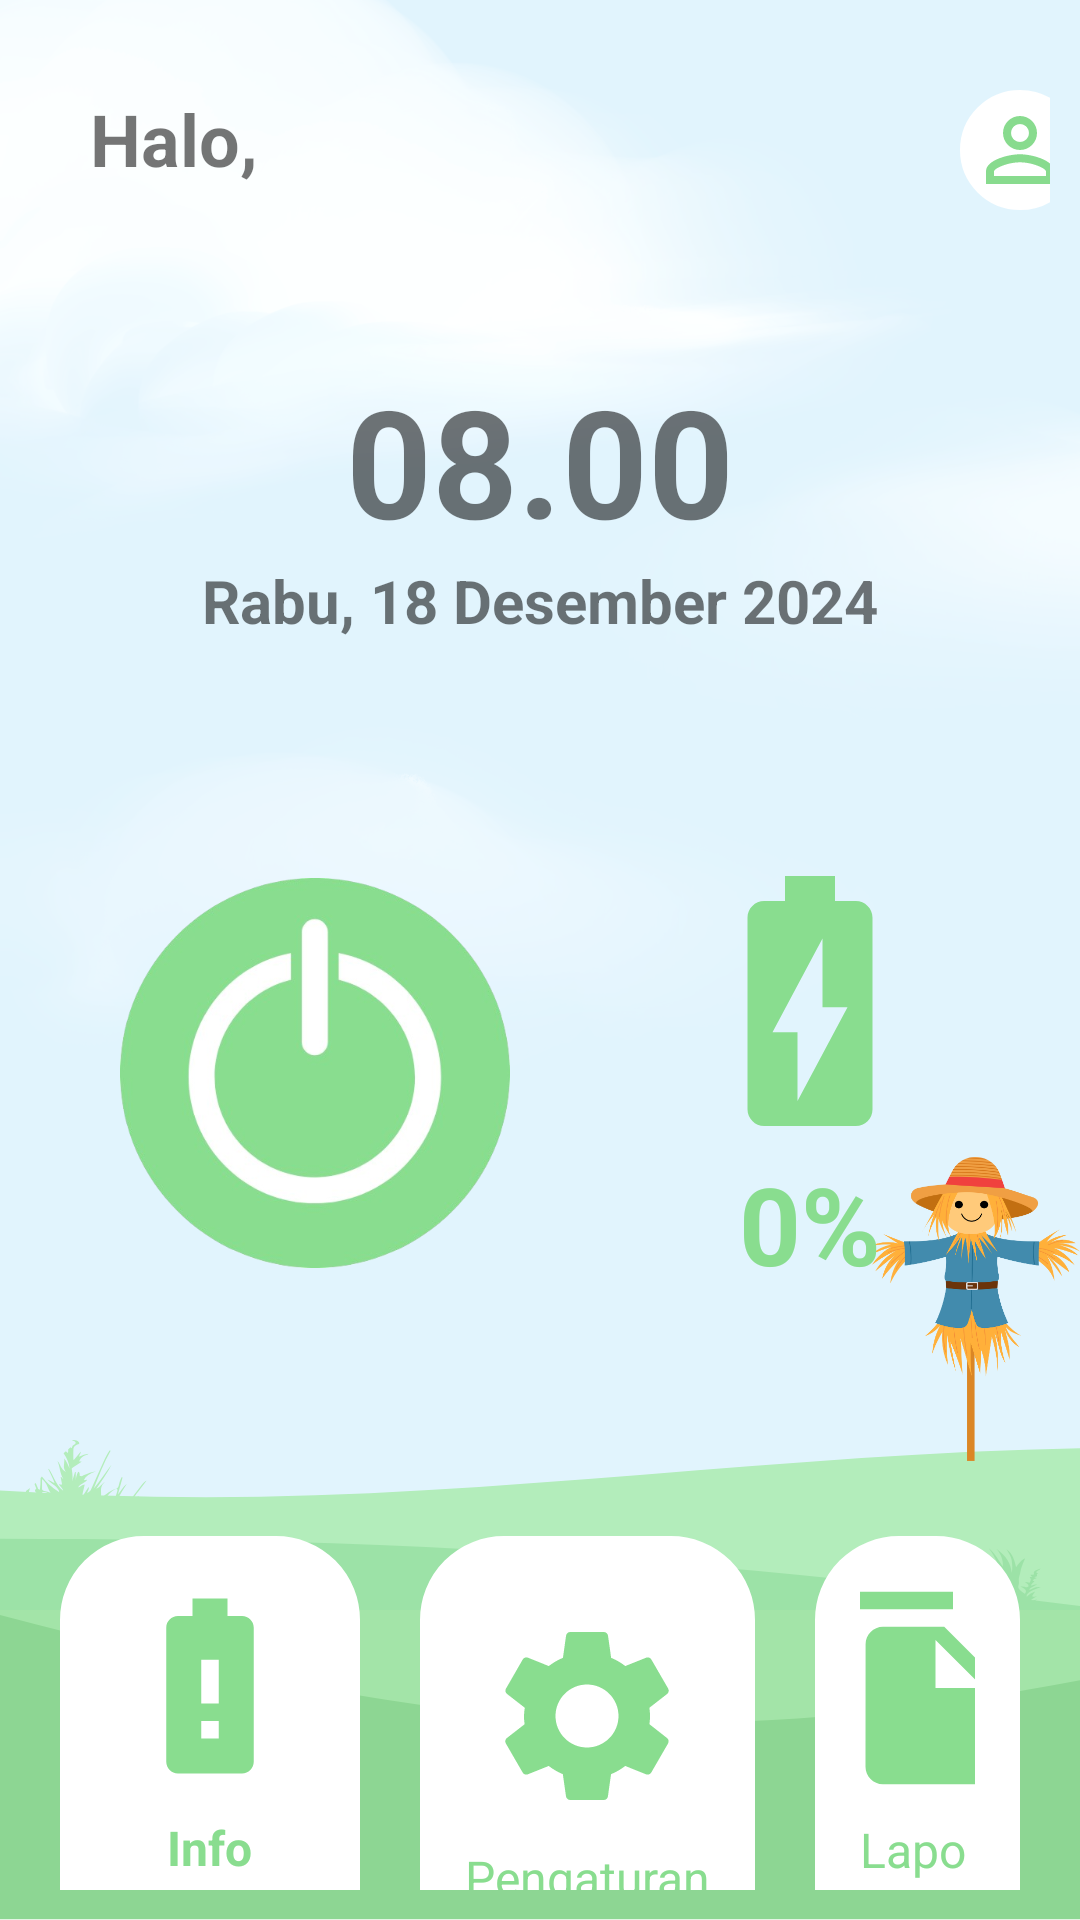

Where to tap for icons on this 1080*1920 app screen, as point (x, y):
Battery Status: point (810, 1001)
Reports Icon: point (917, 1688)
Settings Icon: point (587, 1716)
